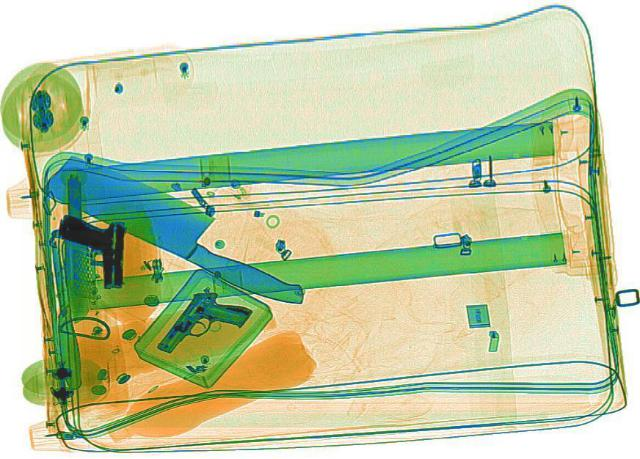Gun: (150, 285, 258, 366), (54, 214, 124, 287)
Knife: (32, 148, 334, 309), (31, 179, 83, 388), (52, 177, 94, 320)
